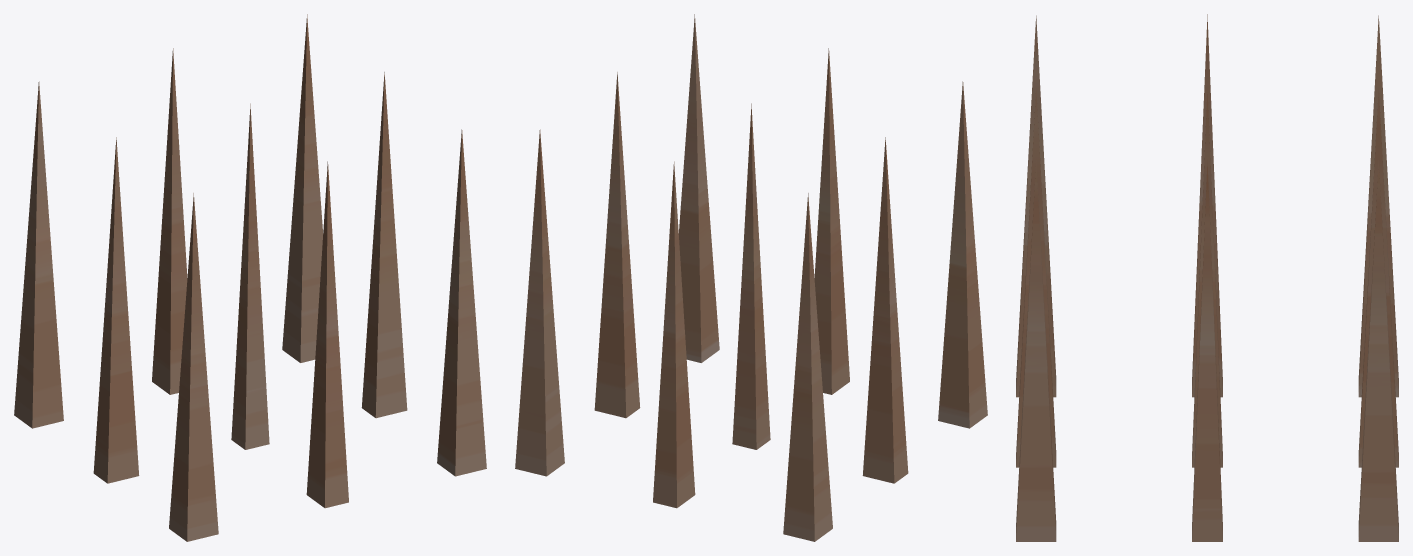
File: diken_set.fbx
The picture shows the model from 3 angles, left to right: view 1: azimuth 30°, elevation 25°; view 2: azimuth 150°, elevation 25°; view 3: azimuth 270°, elevation 25°; orthographic projection. The views are drawn at different scales.
Parts seen in each view (by area): view 1: dikenler.001; view 2: dikenler.001; view 3: dikenler.001.
Part boxes in pixels (x1,y1,x2,y2): dikenler.001: (14, 14, 486, 541); dikenler.001: (515, 14, 987, 541); dikenler.001: (1016, 14, 1398, 541).
Bounding box in the file's own units: 2.41 × 2.6 × 2.41.
Materials: 1 (1 with a texture image).
